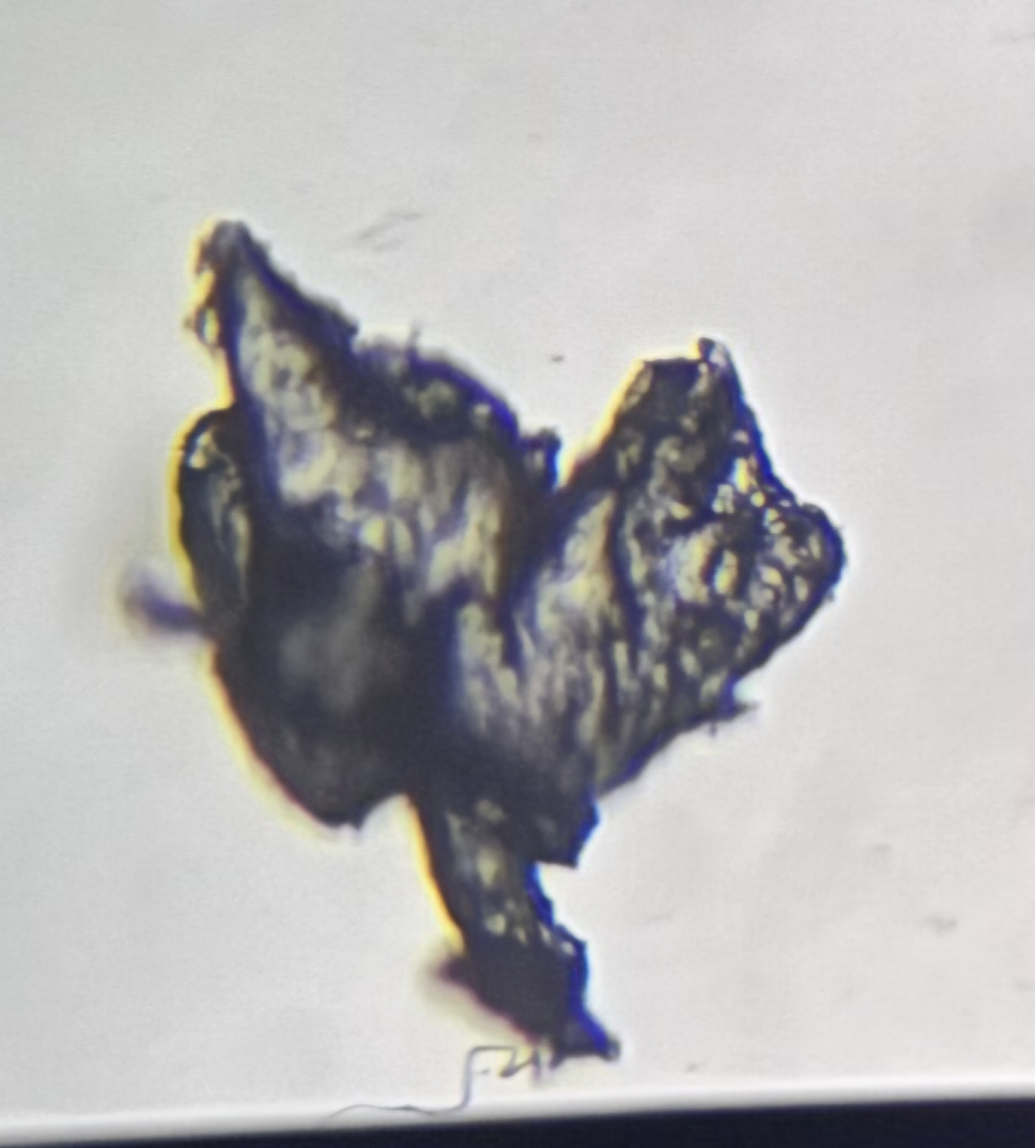microplastic: (121, 220, 848, 1072)
